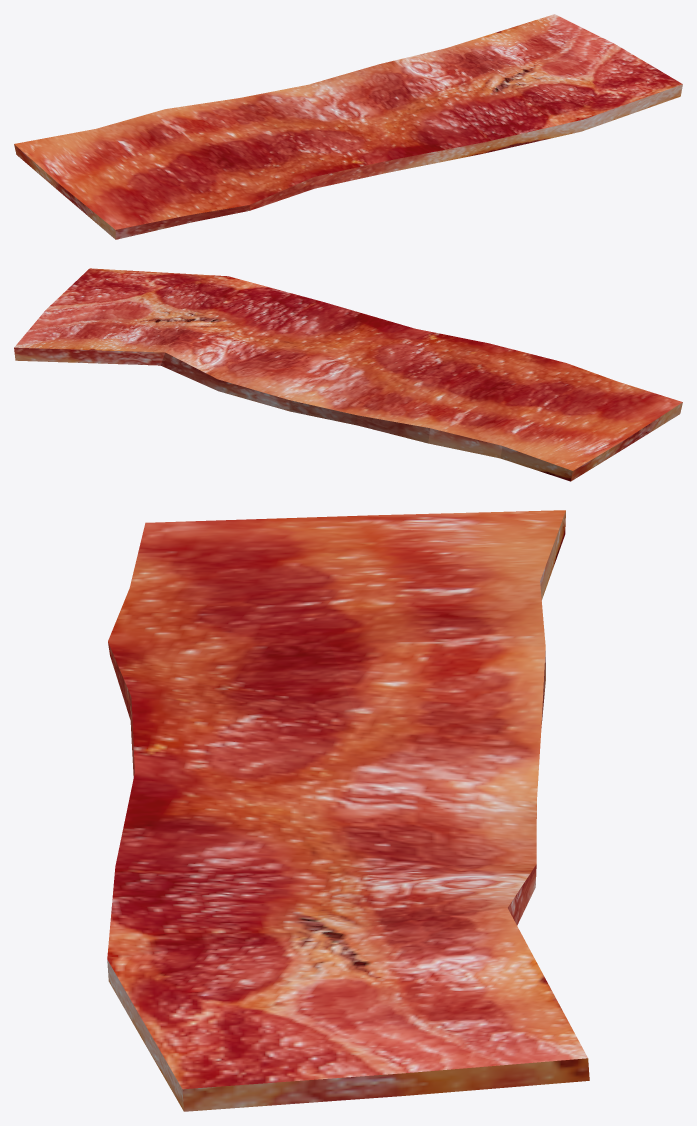
Rendered from bacon.fbx.
3 views of the same model, one above another, from view 1: azimuth 30°, elevation 25°; view 2: azimuth 150°, elevation 25°; view 3: azimuth 270°, elevation 25° (orthographic). The views are drawn at different scales.
Parts seen in each view (by area): view 1: bacon; view 2: bacon; view 3: bacon.
Part boxes in pixels (x1=…): bacon: x1=14, y1=14, x2=682, y2=239; bacon: x1=14, y1=268, x2=682, y2=481; bacon: x1=107, y1=510, x2=589, y2=1111.
Bounding box in the file's own units: 12.03 × 0.5312 × 4.36.
Materials: 1 (1 with a texture image).
